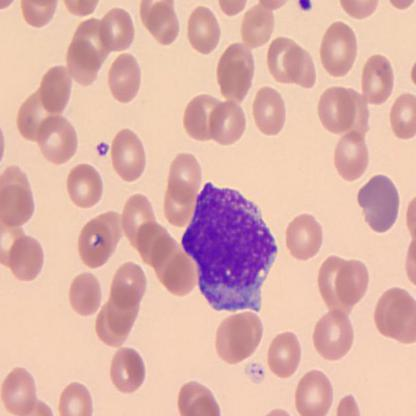Promyelocyte: (184, 183, 278, 310)
